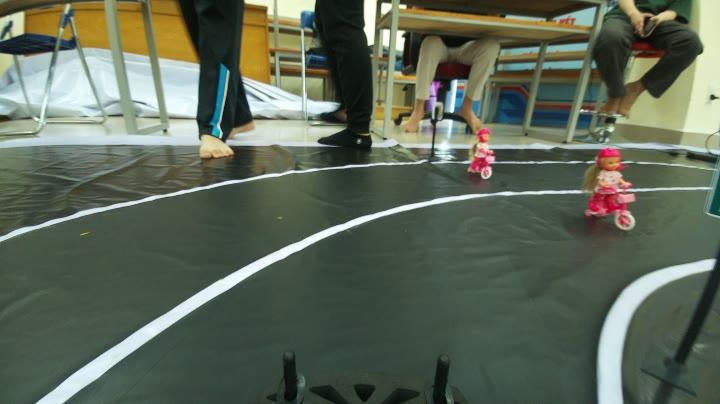pedestrian: (570, 144, 634, 227), (462, 129, 496, 174)
